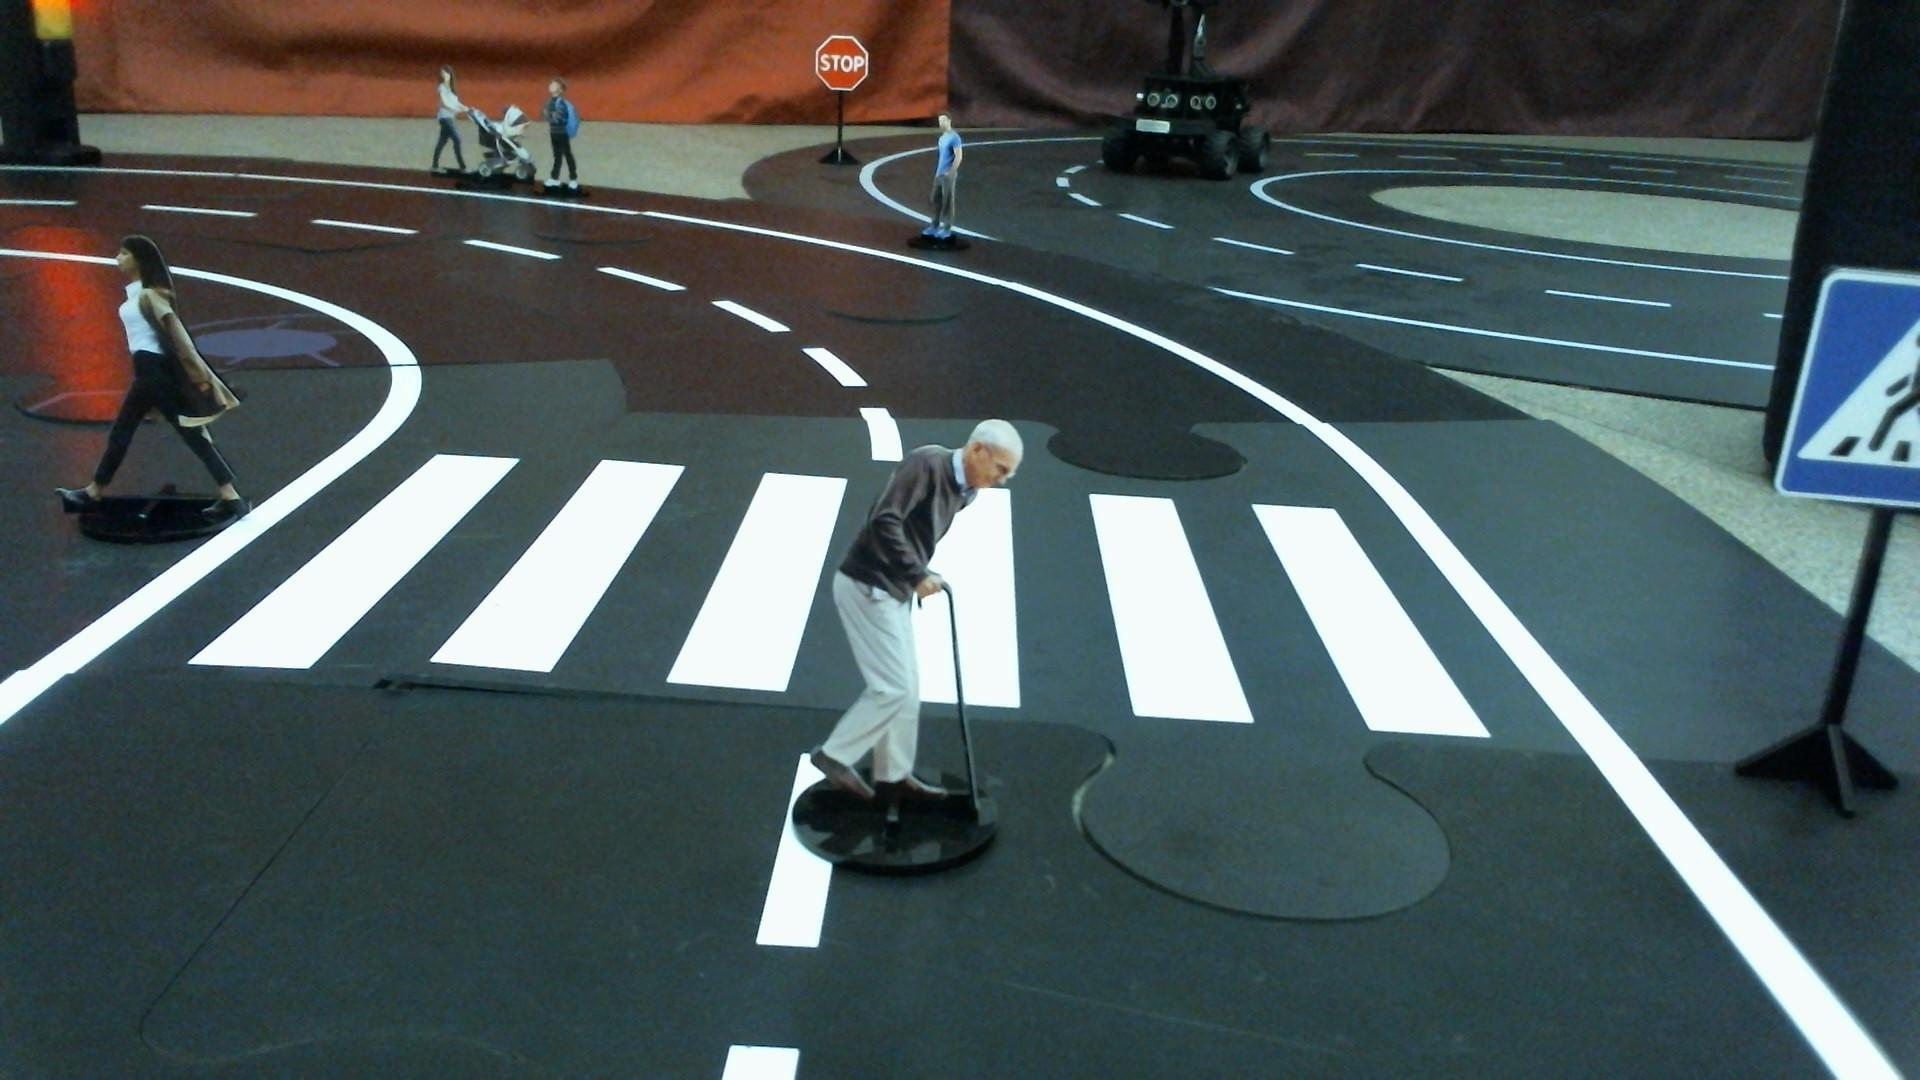crossing: (183, 450, 1588, 750)
person: (793, 417, 1023, 885), (52, 230, 253, 538), (428, 63, 535, 195), (920, 103, 967, 253), (535, 73, 588, 203)
